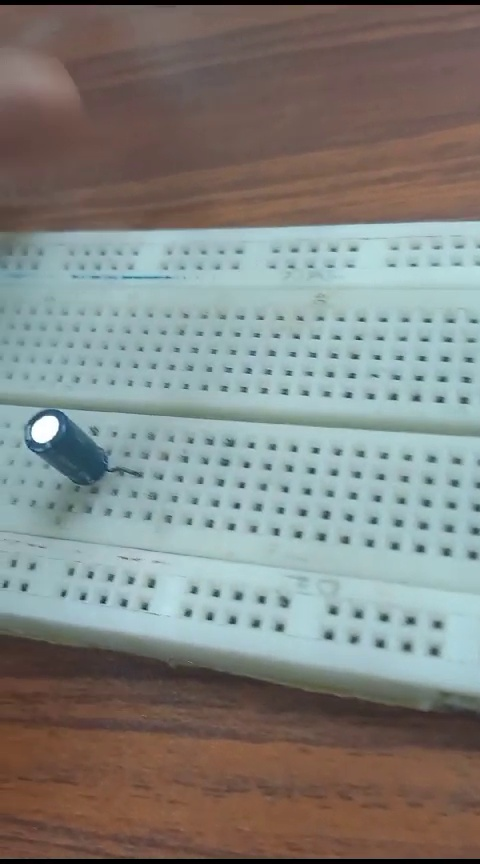capacitor: (28, 400, 130, 489)
